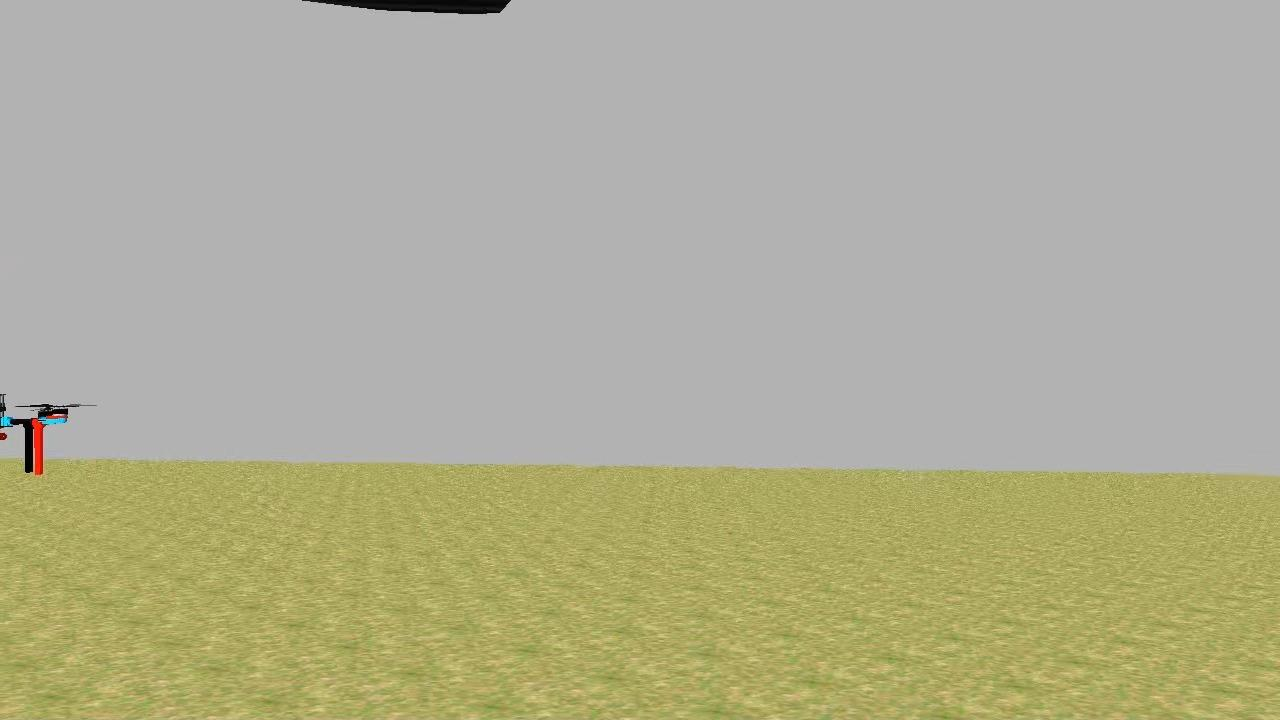UAV: (0, 394, 80, 486)
